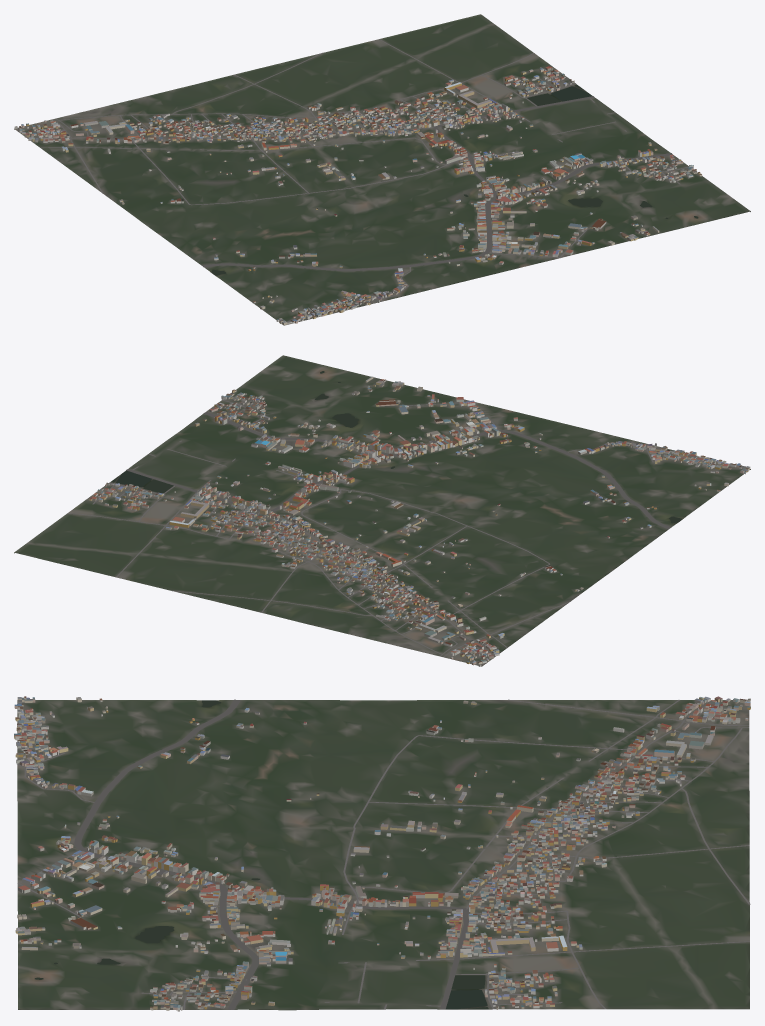
3 renders of one model, top to bottom at view 1: azimuth 30°, elevation 25°; view 2: azimuth 150°, elevation 25°; view 3: azimuth 270°, elevation 25°, orthographic. The views are drawn at different scales.
Visible parts, largest first — view 1: ground, buildings, roads, water; view 2: ground, buildings, roads, water; view 3: ground, buildings, roads, water.
Part boxes in pixels (bbox=[...]): ground: bbox=[14, 14, 750, 325]; buildings: bbox=[14, 66, 702, 325]; roads: bbox=[17, 39, 688, 307]; water: bbox=[211, 84, 698, 275]; ground: bbox=[14, 355, 750, 666]; buildings: bbox=[89, 376, 750, 666]; roads: bbox=[67, 394, 674, 665]; water: bbox=[111, 371, 681, 523]; ground: bbox=[17, 700, 749, 1010]; buildings: bbox=[14, 696, 750, 1011]; roads: bbox=[17, 699, 750, 1009]; water: bbox=[34, 700, 488, 1009].
Size of the model in its own units: 1416 by 21.58 by 1411.
